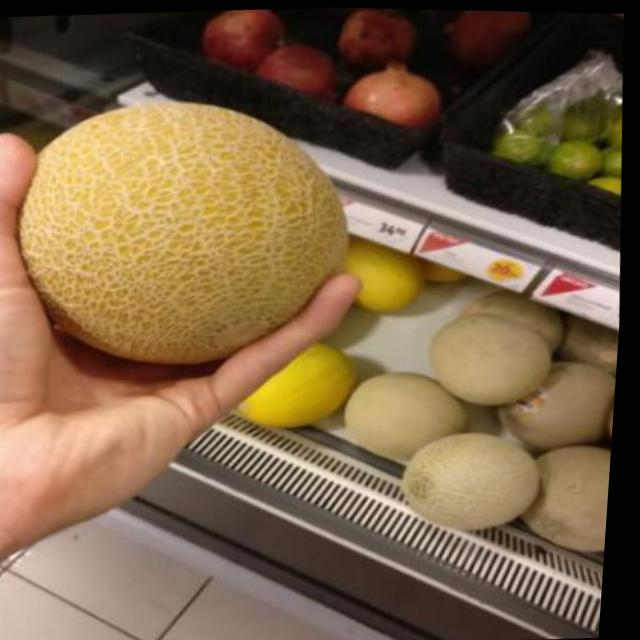Galia: (8, 87, 365, 374), (406, 425, 544, 529), (346, 366, 475, 454), (436, 312, 558, 399), (503, 356, 622, 443), (535, 441, 617, 552)
